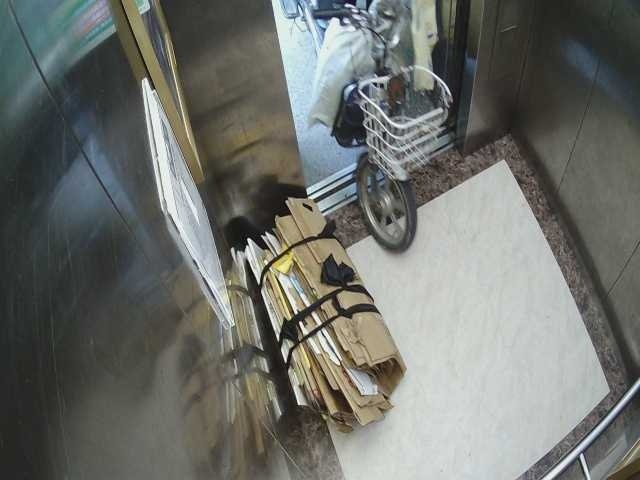emotor: (299, 5, 448, 247)
